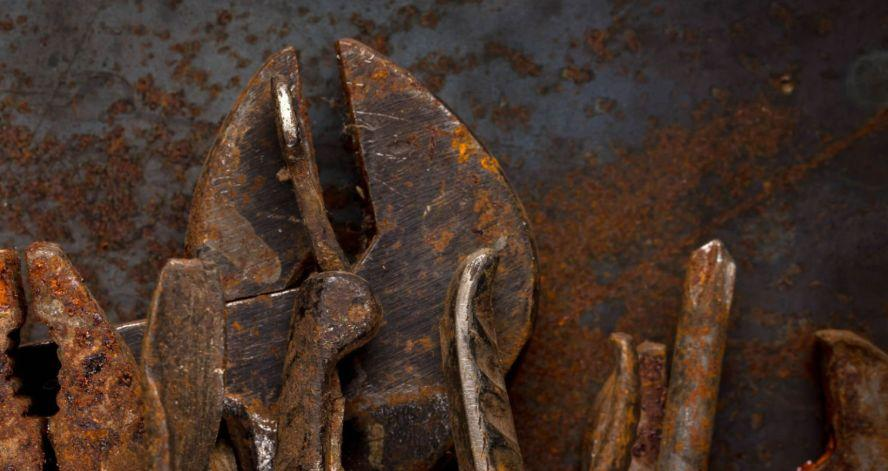metal: (183, 34, 538, 471), (4, 238, 211, 467), (582, 236, 744, 471), (808, 331, 887, 467)
